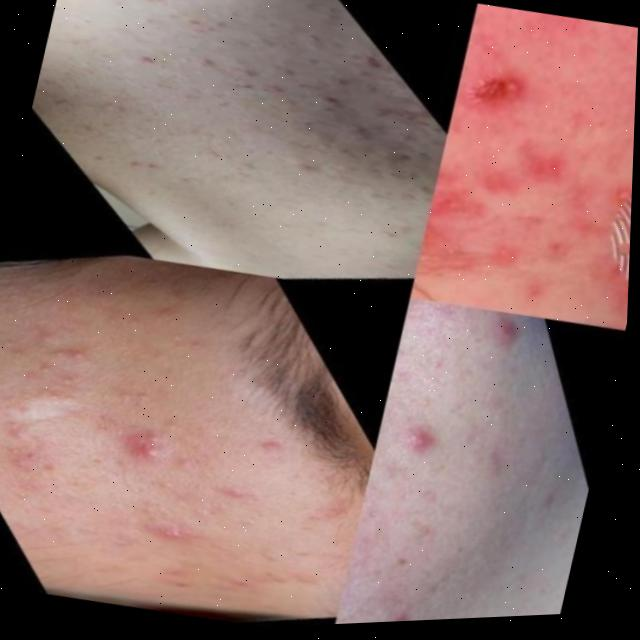Acne: (0, 293, 297, 577), (336, 342, 557, 624), (134, 0, 411, 217), (447, 81, 609, 247)
